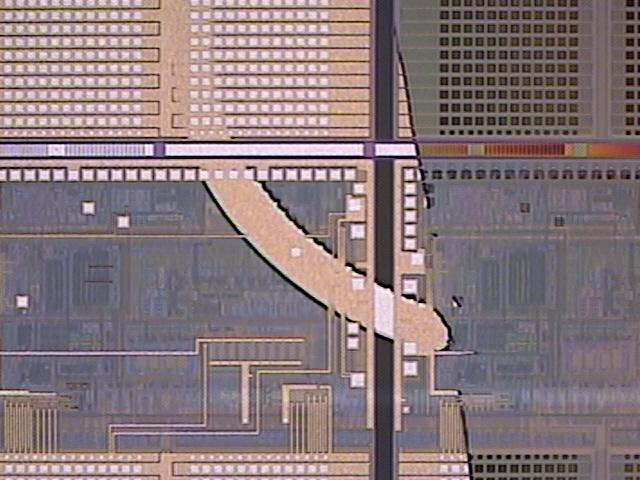BLOCK ETCH: (165, 1, 640, 480)
